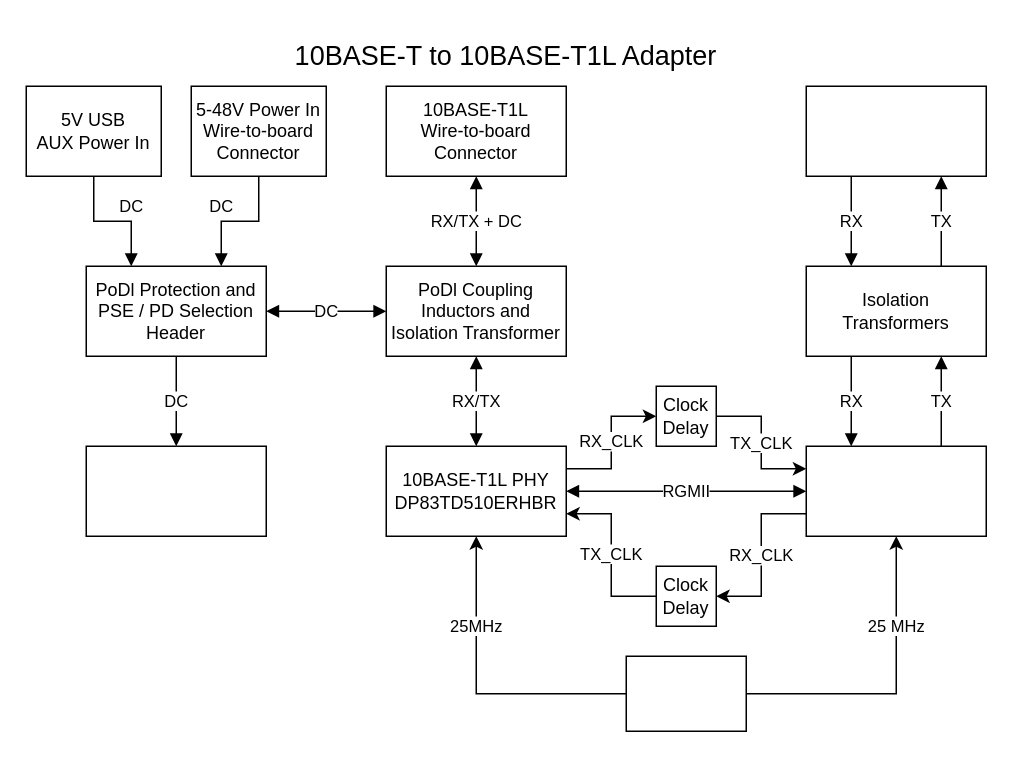
This 1013x758 diagram has some shape labels left out. Each missing label, with the centre of its shape:
"10BASE-T PHY DP83822IRHBR" belongs at pixel 895 490.
"10BASE-T RJ45 Connector" belongs at pixel 895 130.
"25 MHz Oscillator" belongs at pixel 685 693.
"4.5-48V In 3.3V Out Buck Converter" belongs at pixel 175 490.
